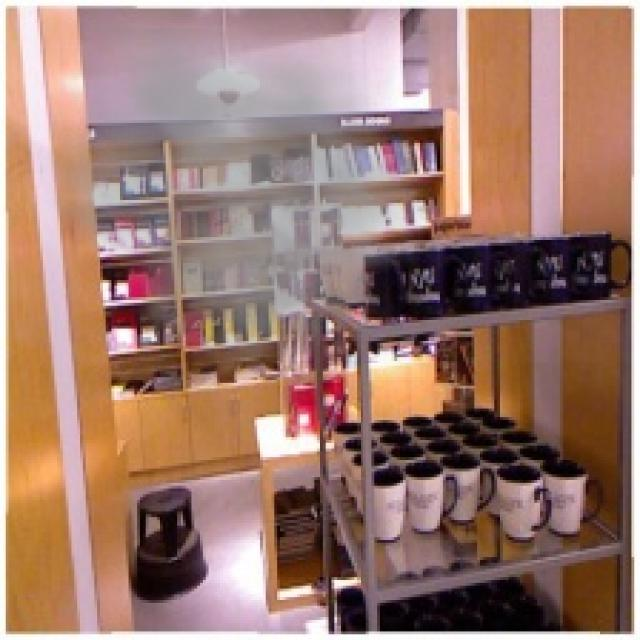smoke: (34, 28, 449, 403)
